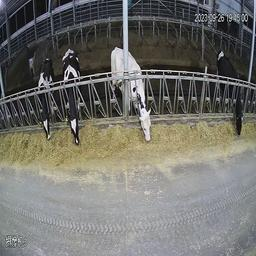cow: (108, 42, 154, 146), (214, 46, 244, 136), (60, 48, 83, 144), (36, 59, 56, 143)
